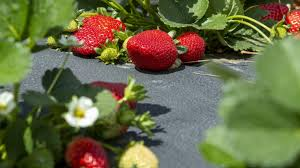ripe: (66, 11, 124, 65), (126, 28, 178, 77), (173, 28, 210, 66), (67, 135, 107, 165)
unripe: (123, 142, 160, 167)
